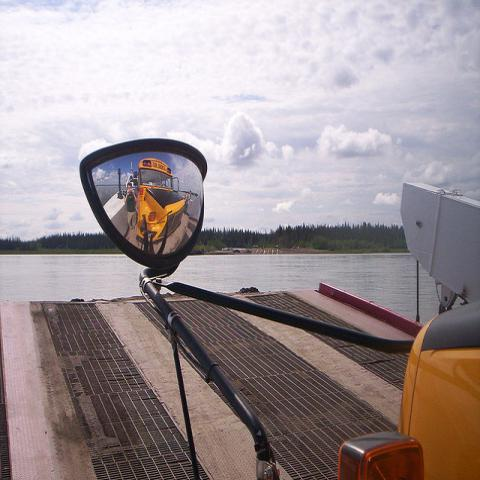bus: (338, 298, 480, 472), (133, 158, 186, 246)
